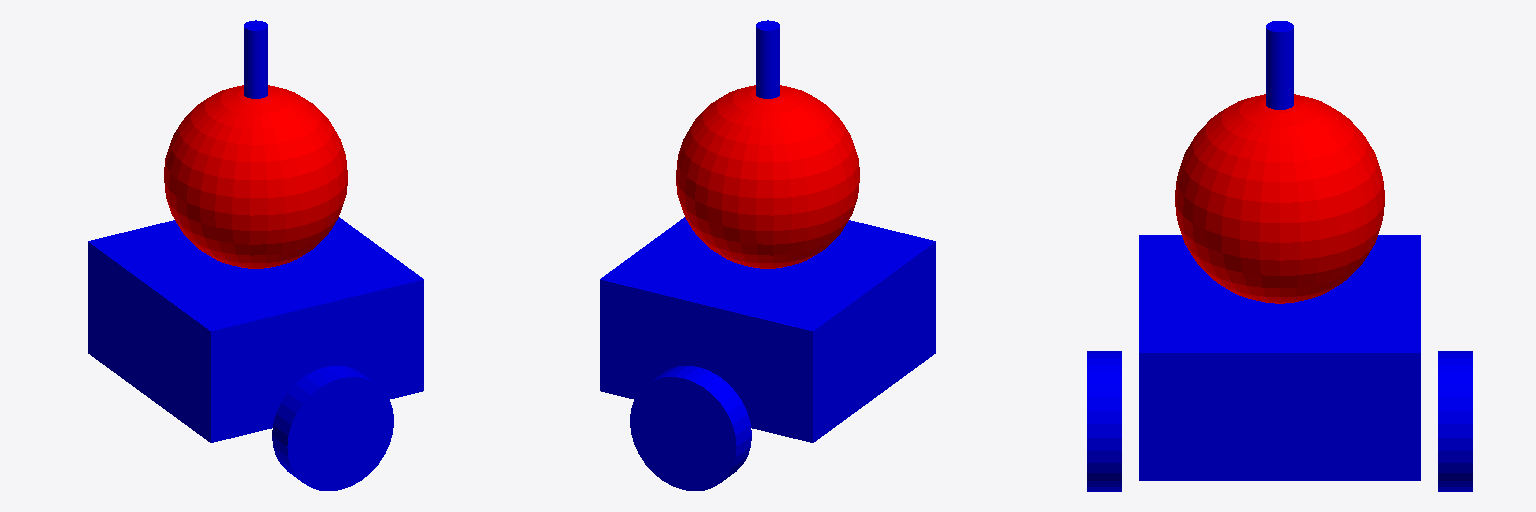
robot.urdf — simple_bot:
<?xml version="1.0"?>
<robot name="simple_bot">

<material name="blue">
  <color rgba="0 0 1 1"/>
</material>

<material name="red">
  <color rgba="1 0 0 1"/>
</material>

<!-- Base link -->

<link name="base_link">
<inertial>
  <origin xyz="0 0 0" rpy="0 0 0"/>
  <mass value="10.0"/>
  <inertia
    ixx="0.5" ixy="0.0" ixz="0.0"
    iyy="0.5" iyz="0.0"
    izz="0.5"/>
</inertial>
<visual>
<geometry>
<box size="0.4 0.4 0.2"/>
</geometry>
<material name="blue"/>
</visual>

  <collision>
    <geometry>
      <box size="0.4 0.4 0.2"/>
    </geometry>
  </collision>
</link>

<!-- Joint was continous-->
<joint name="base_to_head" type="fixed"> 
<parent link="base_link"/>
<child link="head_link"/>
<origin xyz="0 0 0.25"/>
</joint>

<!-- Head link -->
<link name="head_link">
<inertial>
  <origin xyz="0 0 0" rpy="0 0 0"/>
  <mass value="1.0"/>
  <inertia
    ixx="0.01" ixy="0.0" ixz="0.0"
    iyy="0.01" iyz="0.0"
    izz="0.01"/>
</inertial>
<visual>
<geometry>
<sphere radius="0.15"/>
</geometry>
<material name="red"/>
</visual>
</link>

<!-- Joint was revolute -->
 <joint name="head_to_arm" type="fixed">
     <limit lower="-3.14" upper="3.14" effort="1000" velocity="0.5"/>

    <parent link="head_link"/>
    <child link="arm_link"/>
    <origin rpy="0 0 0" xyz="0 0 0.12"/>
    <axis xyz="0 0 1"/>
  </joint>

     <!-- arm_link -->
  <link name="arm_link">
  
  <inertial>
  <origin xyz="0 0 0" rpy="0 0 0"/>
  <mass value="1.0"/>
  <inertia
    ixx="0.01" ixy="0.0" ixz="0.0"
    iyy="0.01" iyz="0.0"
    izz="0.01"/>
</inertial>
    <visual>
      <origin rpy="0 0 0" xyz="0 0 0"/>
      <geometry>
        <cylinder radius="0.02" length="0.3"/>
      </geometry>
      <material name="blue"/>
    </visual>
  </link>

<link name="left_wheel">
<inertial>
  <origin xyz="0 0 0" rpy="0 0 0"/>
  <mass value="1.0"/>
  <inertia
    ixx="0.05" ixy="0.0" ixz="0.0"
    iyy="0.05" iyz="0.0"
    izz="0.05"/>
</inertial>
 <!-- Visual (matches collision exactly) -->
  <visual>
    <origin rpy="1.5708 0 0"/>
    <geometry>
      <cylinder radius="0.1" length="0.05"/>
    </geometry>
    <material name="blue"/>
  </visual>

 <collision>
 <origin rpy="1.5708 0 0"/>
    <geometry>
      <cylinder radius="0.1" length="0.05"/>
    </geometry>
  </collision>
</link>

<link name="right_wheel">
<inertial>
  <origin xyz="0 0 0" rpy="0 0 0"/>
  <mass value="1.0"/>
  <inertia
    ixx="0.05" ixy="0.0" ixz="0.0"
    iyy="0.05" iyz="0.0"
    izz="0.05"/>
</inertial>

<!-- Visual (matches collision exactly) -->
  <visual>
    <origin rpy="1.5708 0 0"/>
    <geometry>
      <cylinder radius="0.1" length="0.05"/>
    </geometry>
    <material name="blue"/>
  </visual>

<collision>
<origin rpy="1.5708 0 0"/>
    <geometry>
      <cylinder radius="0.1" length="0.05"/>
    </geometry>
  </collision>
</link>

<joint name="dummy_left_wheel_joint" type="continuous">
  <parent link="base_link"/>
  <child link="left_wheel"/>
  <origin xyz="0 0.25 -0.1"/>
  <axis xyz="0 1 0"/>
</joint>

<joint name="dummy_right_wheel_joint" type="continuous">
  <parent link="base_link"/>
  <child link="right_wheel"/>
  <origin xyz="0 -0.25 -0.1"/>
  <axis xyz="0 1 0"/>
</joint>

<gazebo reference="left_wheel">
  <mu1>1.0</mu1>
  <mu2>1.0</mu2>
</gazebo>

<gazebo reference="right_wheel">
  <mu1>1.0</mu1>
  <mu2>1.0</mu2>
</gazebo>

<!-- Gazebo plugin to accept cmd_vel -->
<gazebo>
  <plugin
    filename="libgz-sim-diff-drive-system.so"
    name="gz::sim::systems::DiffDrive">

    <!-- ROS topic -->
    <topic>cmd_vel</topic>

    <!-- Robot frame -->
    <base_link>base_link</base_link>

    <!-- Fake wheel separation/radius (still required) -->
    <wheel_separation>0.5</wheel_separation>
    <wheel_radius>0.1</wheel_radius>

    <!-- These frames must exist -->
    <left_joint>dummy_left_wheel_joint</left_joint>
    <right_joint>dummy_right_wheel_joint</right_joint>

  </plugin>
</gazebo>


</robot>

--- What the picture shows (computed from the rendered views, not written in the file) ---
3 views of the same robot in one strip: view 1: azimuth 30°, elevation 25°; view 2: azimuth 150°, elevation 25°; view 3: azimuth 270°, elevation 25° (orthographic).
Robot: simple_bot — 5 links, 4 joints (2 continuous, 2 fixed); root link base_link; default pose: every joint at zero.
Visible links, largest first — view 1: base_link, head_link, right_wheel, arm_link; view 2: base_link, head_link, left_wheel, arm_link; view 3: base_link, head_link, left_wheel, right_wheel, arm_link.
Boxes of the visible links, box(x1,y1,x2,y2) form: base_link: box(88, 217, 423, 442); head_link: box(164, 85, 347, 268); right_wheel: box(272, 366, 393, 490); arm_link: box(244, 20, 267, 98); base_link: box(600, 217, 935, 442); head_link: box(676, 85, 859, 268); left_wheel: box(630, 366, 751, 490); arm_link: box(756, 20, 779, 98); base_link: box(1139, 235, 1420, 480); head_link: box(1175, 94, 1384, 303); left_wheel: box(1438, 351, 1472, 491); right_wheel: box(1087, 351, 1121, 491); arm_link: box(1266, 21, 1293, 109).
Size in the robot's own frame: 0.4 by 0.55 by 0.72 metres.
Geometry: primitives only (box / cylinder / sphere), no mesh files.